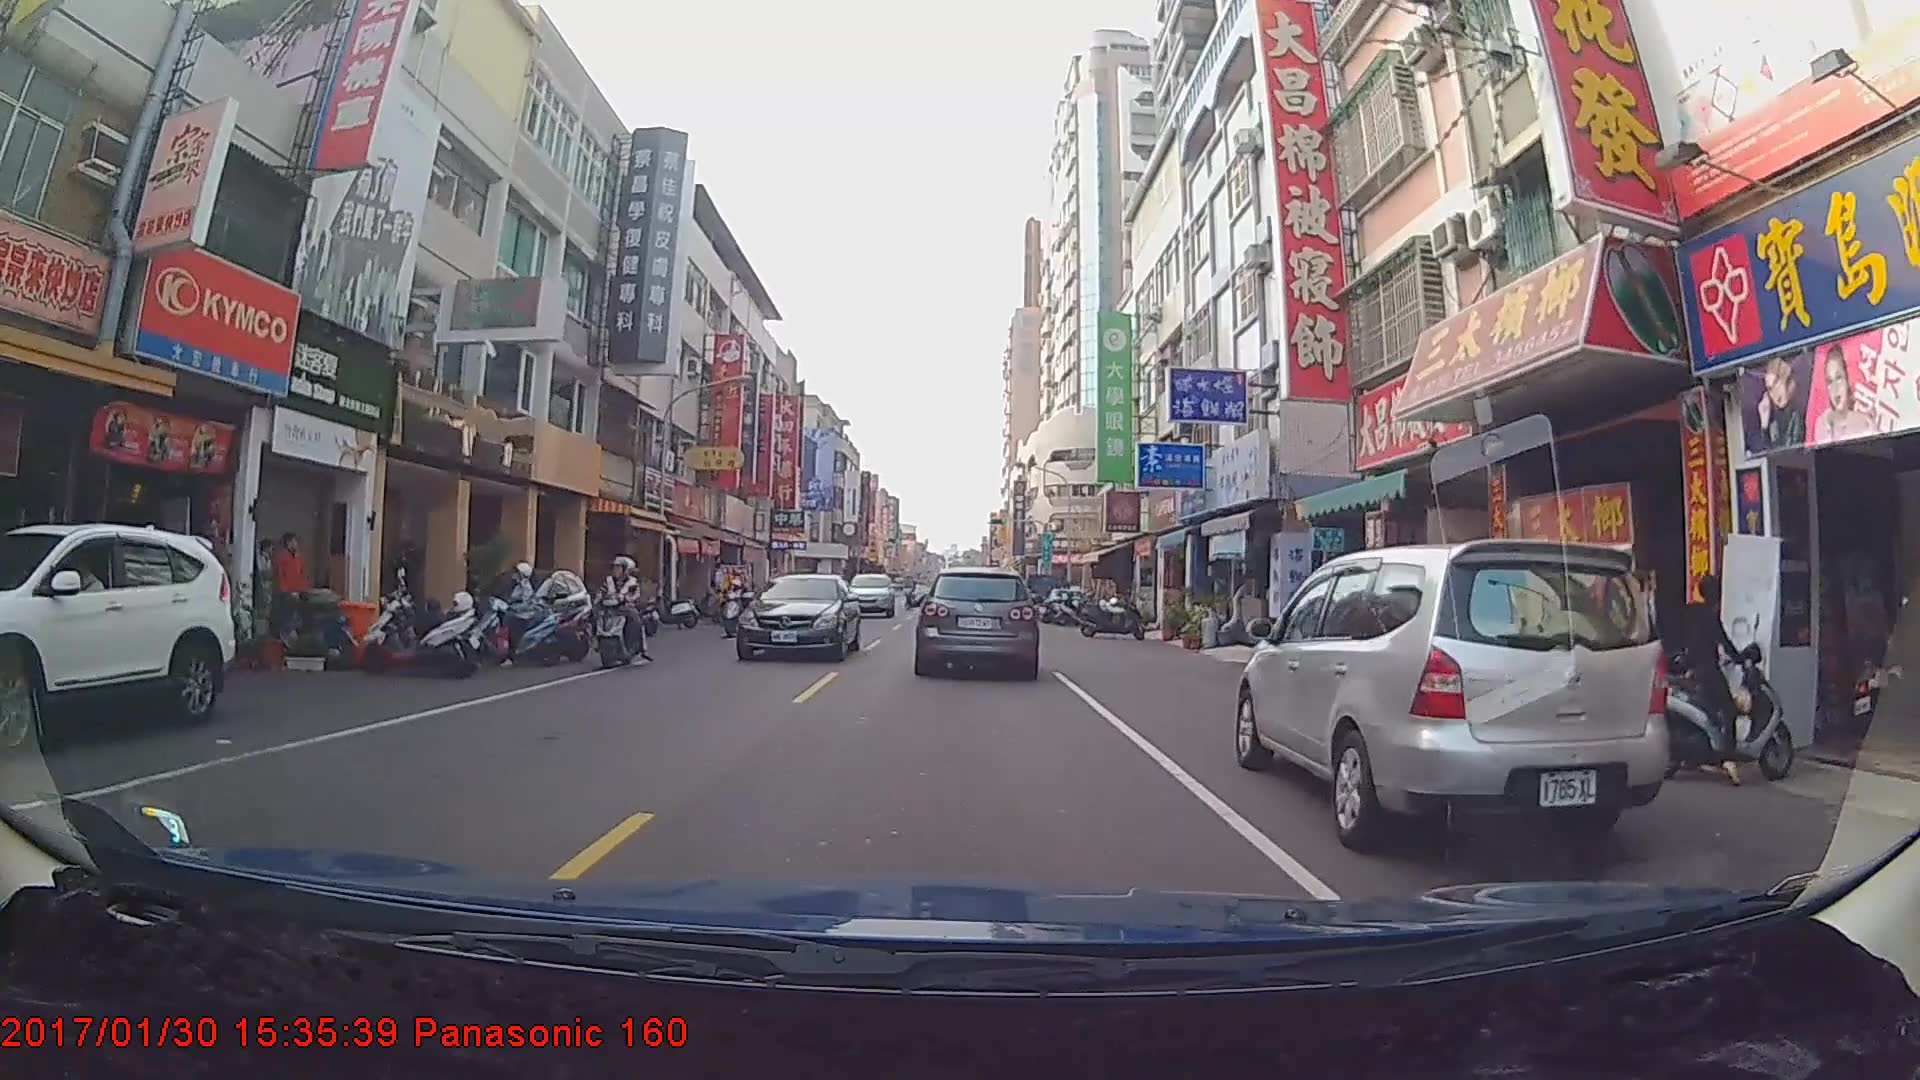pedestrian: (270, 528, 315, 639), (248, 531, 276, 628)
rider: (1613, 571, 1811, 795), (589, 550, 655, 670), (736, 575, 766, 635)
vehicle: (1233, 537, 1664, 854), (0, 521, 230, 754), (915, 568, 1037, 675), (738, 570, 859, 662), (844, 571, 896, 617)
